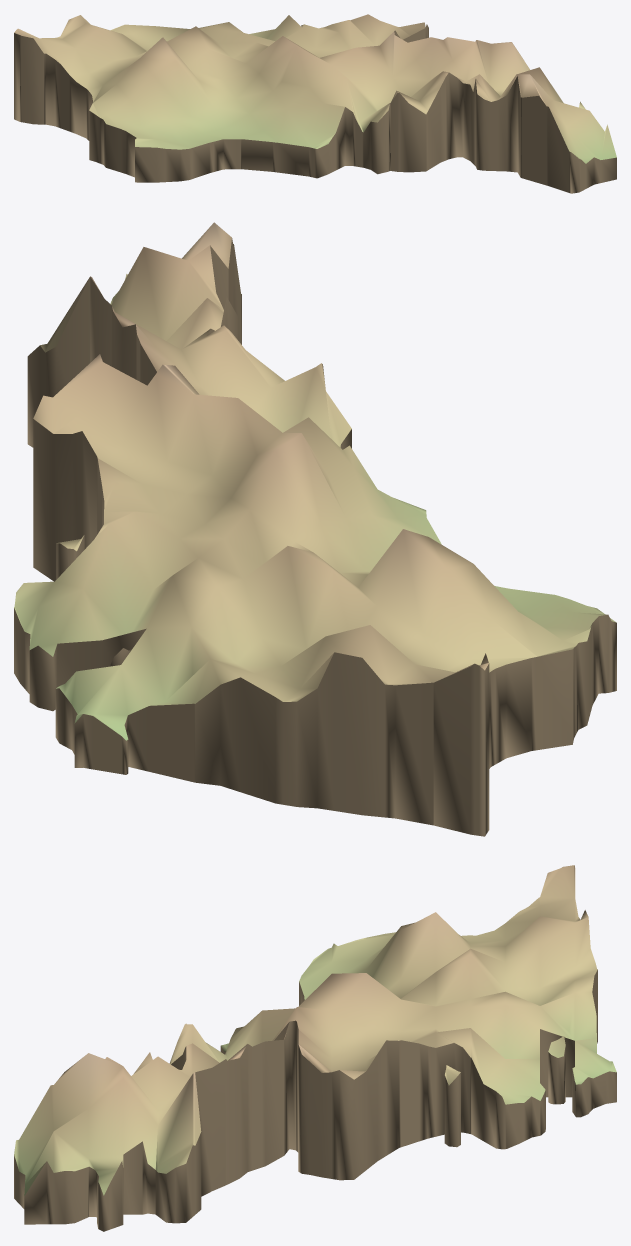
Rendered from ARM.glb.
The picture shows the model from 3 angles, top to bottom: view 1: azimuth 30°, elevation 25°; view 2: azimuth 150°, elevation 25°; view 3: azimuth 270°, elevation 25°; orthographic projection. The views are drawn at different scales.
Visible parts, largest first — view 1: ARM; view 2: ARM; view 3: ARM.
Boxes of the visible parts, box(x1,y1,x2,y2) form: ARM: box(14, 14, 616, 193); ARM: box(14, 222, 616, 836); ARM: box(14, 865, 616, 1231).
Size of the model in its own units: 1.39 by 0.338 by 1.4.
